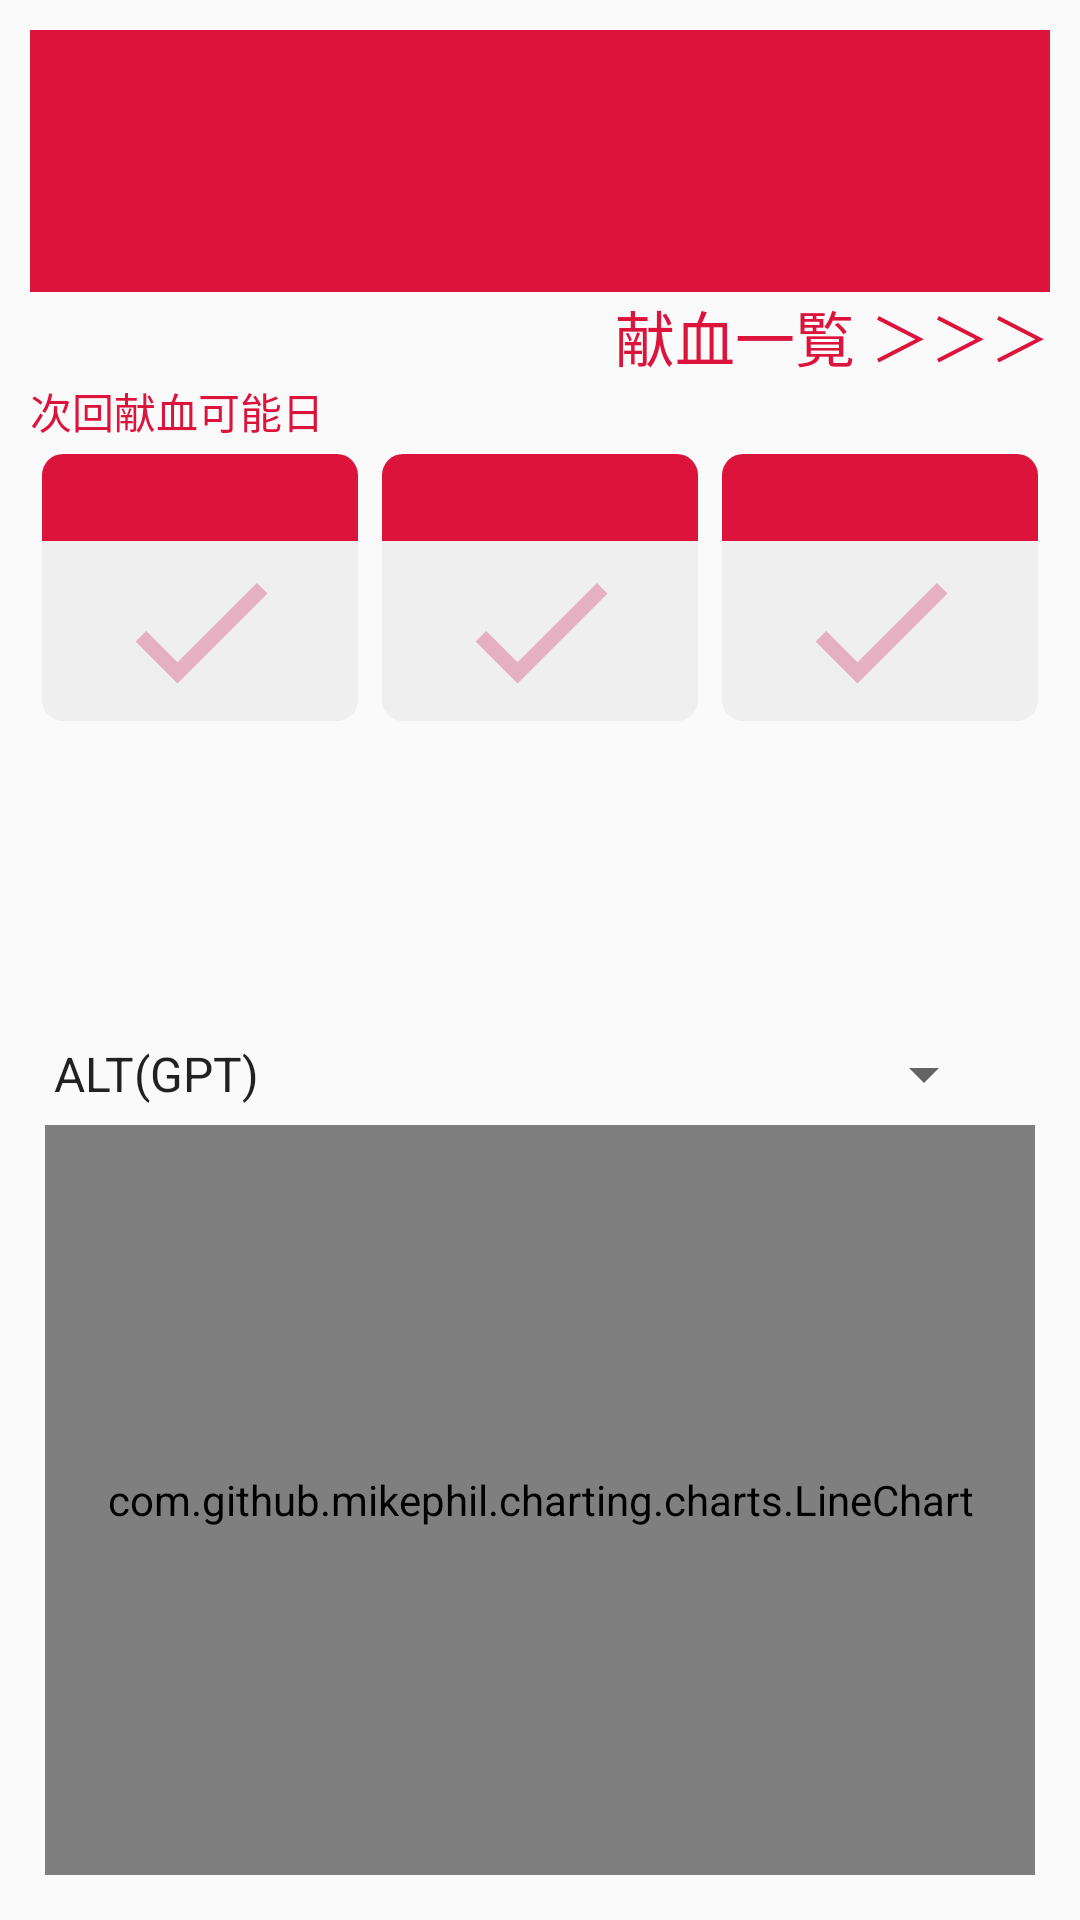

Screen size 1080×1920. Icon name, then its box in pixels as region(x1, y1, x2, y2):
check: region(136, 583, 267, 683), region(476, 583, 607, 683), region(816, 583, 947, 683)
